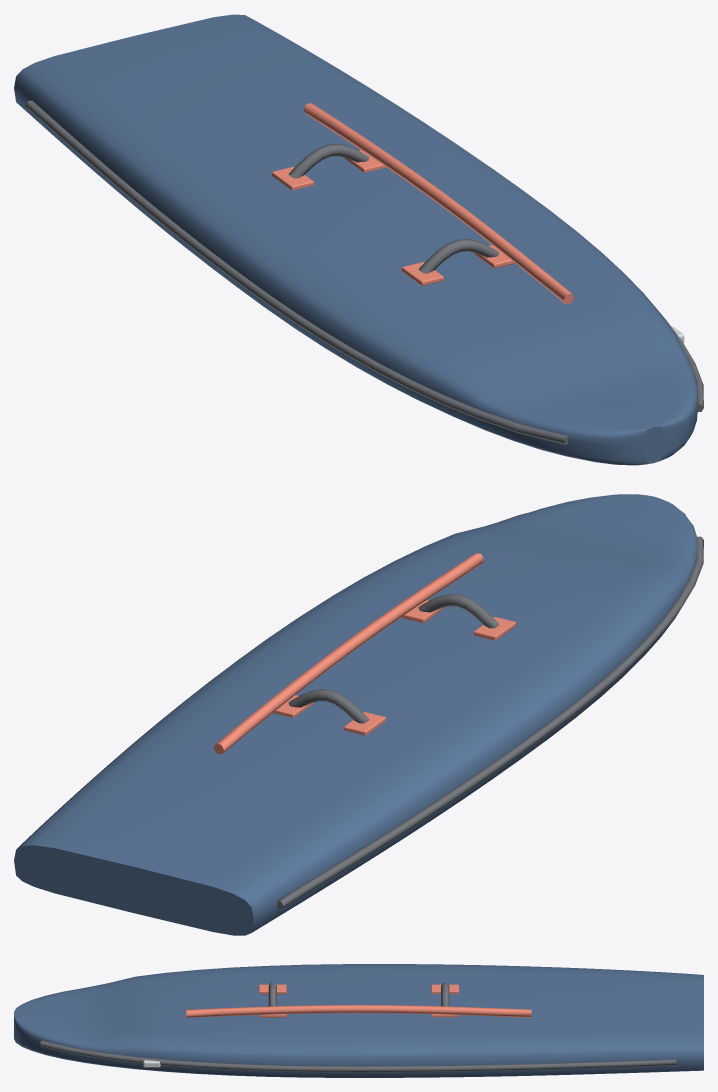
The model's file is beach-surf-and-paddle-kit-surfboard-bag-2cb607f2__39451.glb.
3 renders of one model, top to bottom at view 1: azimuth 30°, elevation 25°; view 2: azimuth 150°, elevation 25°; view 3: azimuth 270°, elevation 25°, orthographic. The views are drawn at different scales.
Visible parts, largest first — view 1: surfboard-bag-navy, surfboard-bag-charcoal, surfboard-bag-coral; view 2: surfboard-bag-navy, surfboard-bag-charcoal, surfboard-bag-coral; view 3: surfboard-bag-navy, surfboard-bag-charcoal, surfboard-bag-coral.
Part boxes in pixels (x1,y1,x2,y2): surfboard-bag-navy: (14, 14, 697, 465); surfboard-bag-charcoal: (26, 100, 703, 444); surfboard-bag-coral: (271, 103, 574, 304); surfboard-bag-navy: (14, 494, 697, 935); surfboard-bag-charcoal: (277, 513, 703, 908); surfboard-bag-coral: (213, 553, 515, 754); surfboard-bag-navy: (14, 964, 703, 1077); surfboard-bag-charcoal: (40, 982, 676, 1072); surfboard-bag-coral: (186, 984, 531, 1017).
Bounding box in the file's own units: 0.6659 × 0.1684 × 2.
